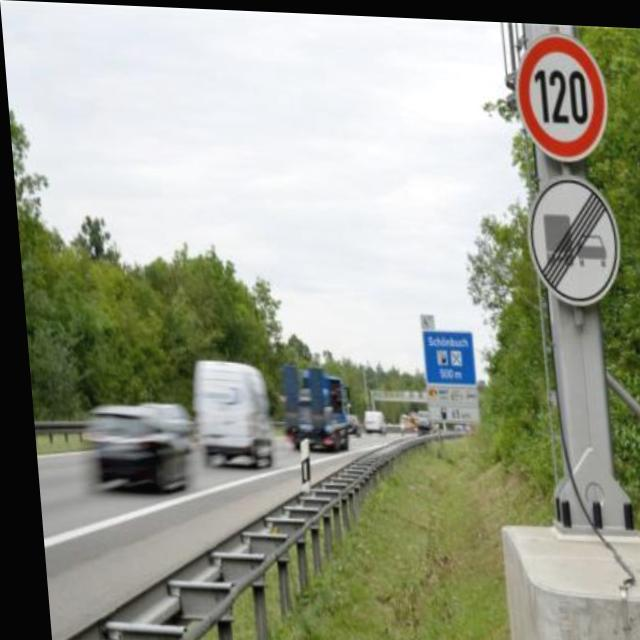limit120: (510, 26, 614, 163)
